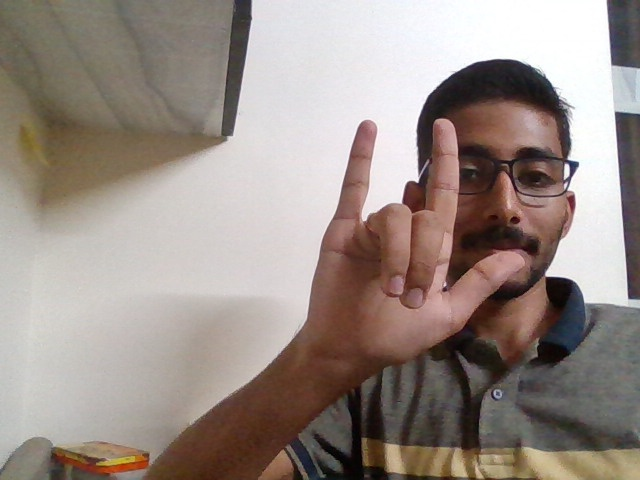Enjoy: (297, 95, 538, 394)
